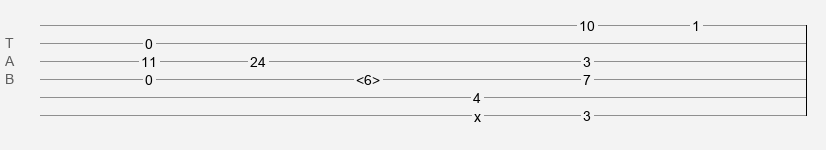0: (145, 36, 153, 46), (145, 72, 153, 82)
1: (692, 18, 700, 28)
10: (579, 18, 595, 28)
11: (141, 54, 157, 64)
24: (250, 54, 266, 64)
3: (583, 54, 591, 64), (583, 108, 591, 118)
4: (473, 90, 481, 100)
7: (583, 72, 591, 82)
harmonic: (356, 72, 380, 82)
x: (474, 109, 481, 117)
